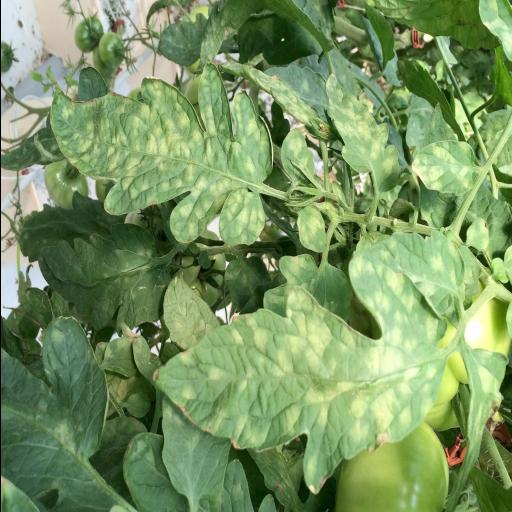Leaf Mold: (155, 266, 443, 494), (46, 64, 272, 244), (322, 72, 400, 212), (390, 230, 470, 324), (405, 138, 475, 194)
